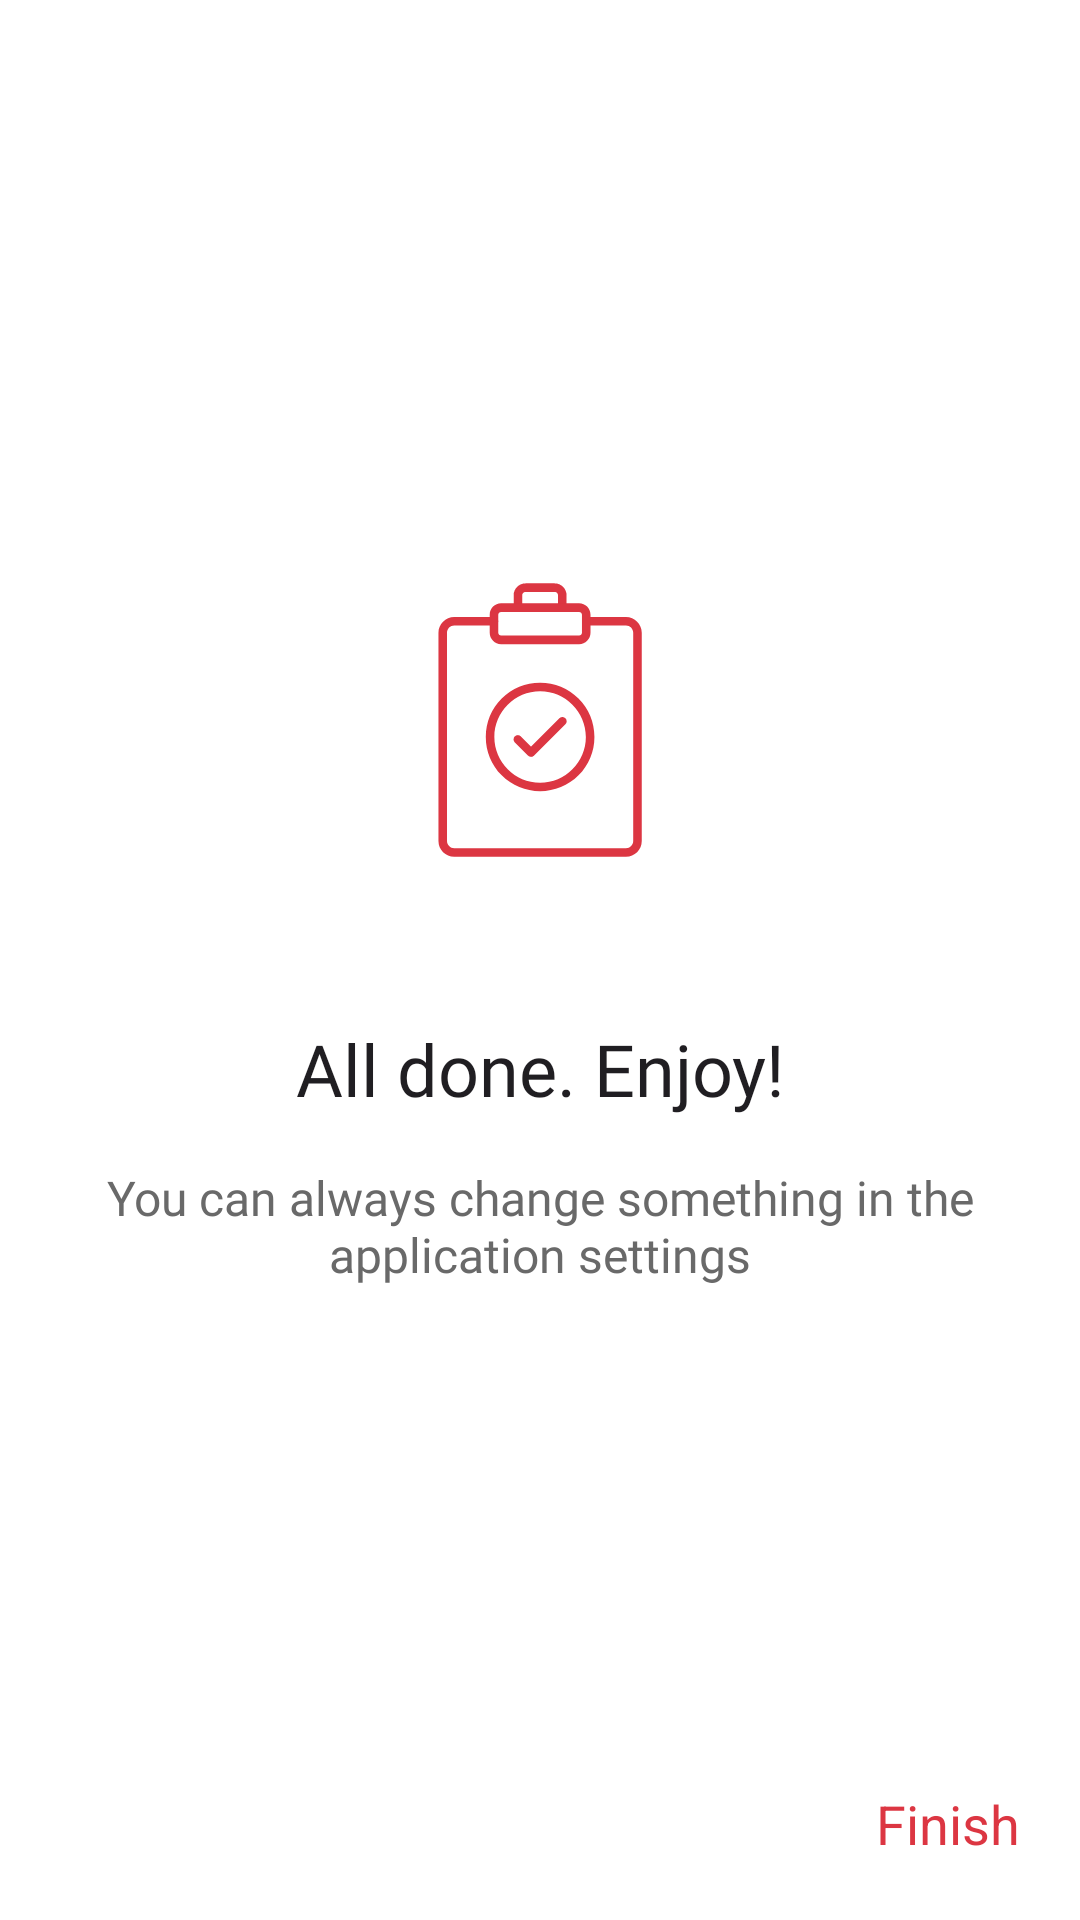

Icon bounding boxes for this 1080 × 1920 phone screenshot, format (x1, y1, x2, y2):
completed: (438, 583, 642, 857)
